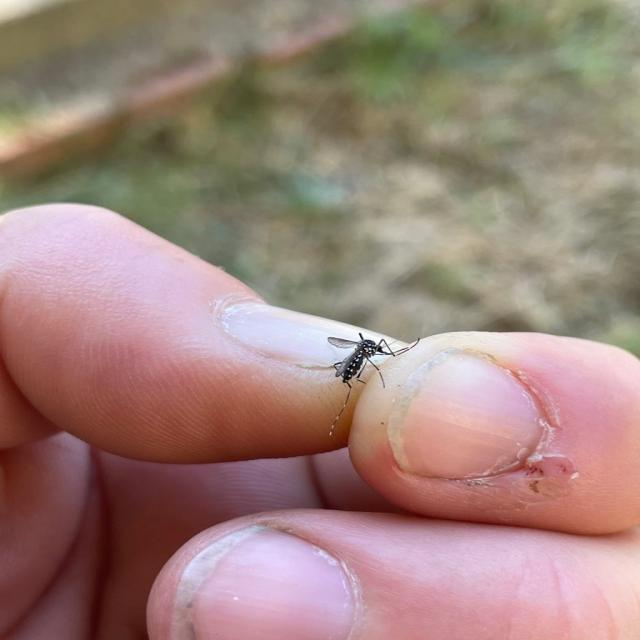albopictus: (293, 323, 412, 426)
